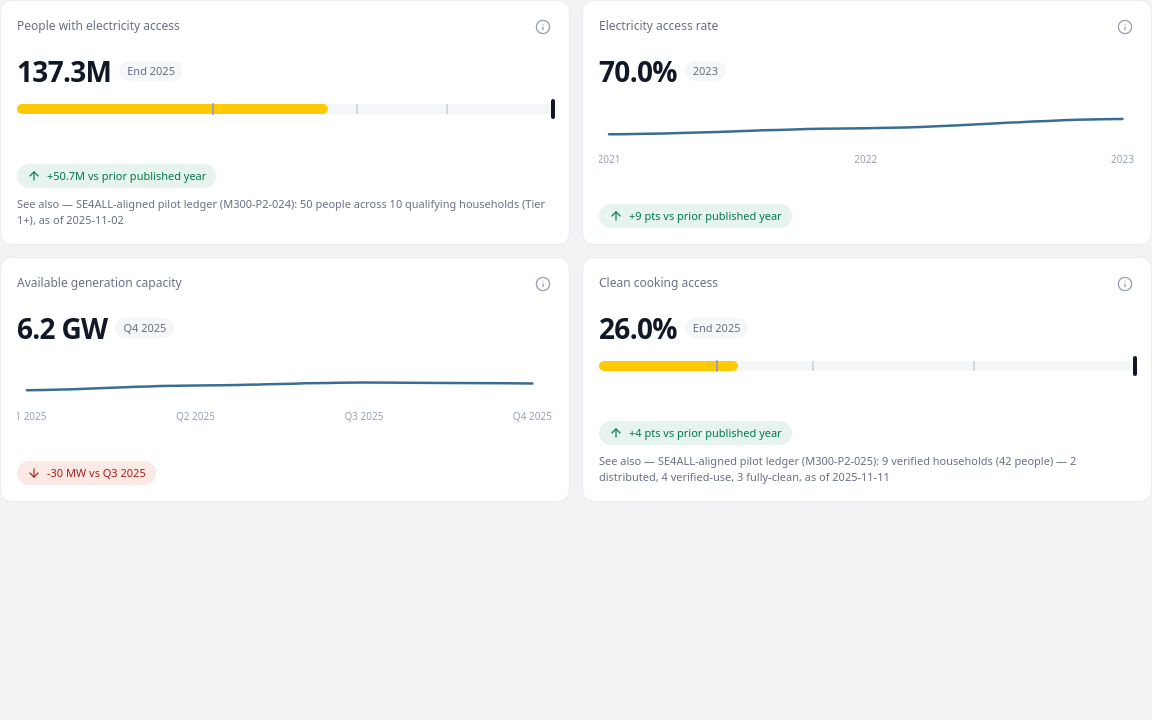
Test: Section A — headline cards › renders the generation capacity card with a sparkline
Check: the text "6.2 GW" is shown, box [17,314,108,342]
Check: the picture named "Available generation capacity trend" is shown, box [17,342,553,449]
Step 1. Click the button named "About Available generation capacity" → (543, 284), box [533,274,553,294]
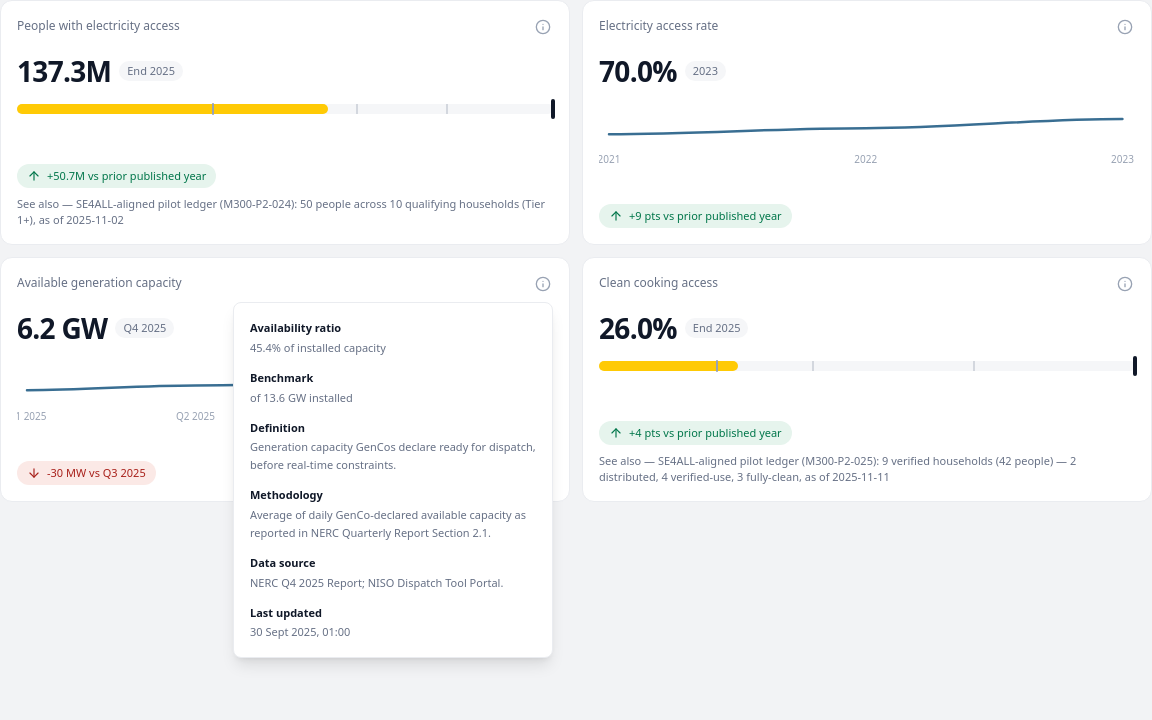
Check: the dialog shows "of 13.6 GW installed", box [250,390,353,405]
